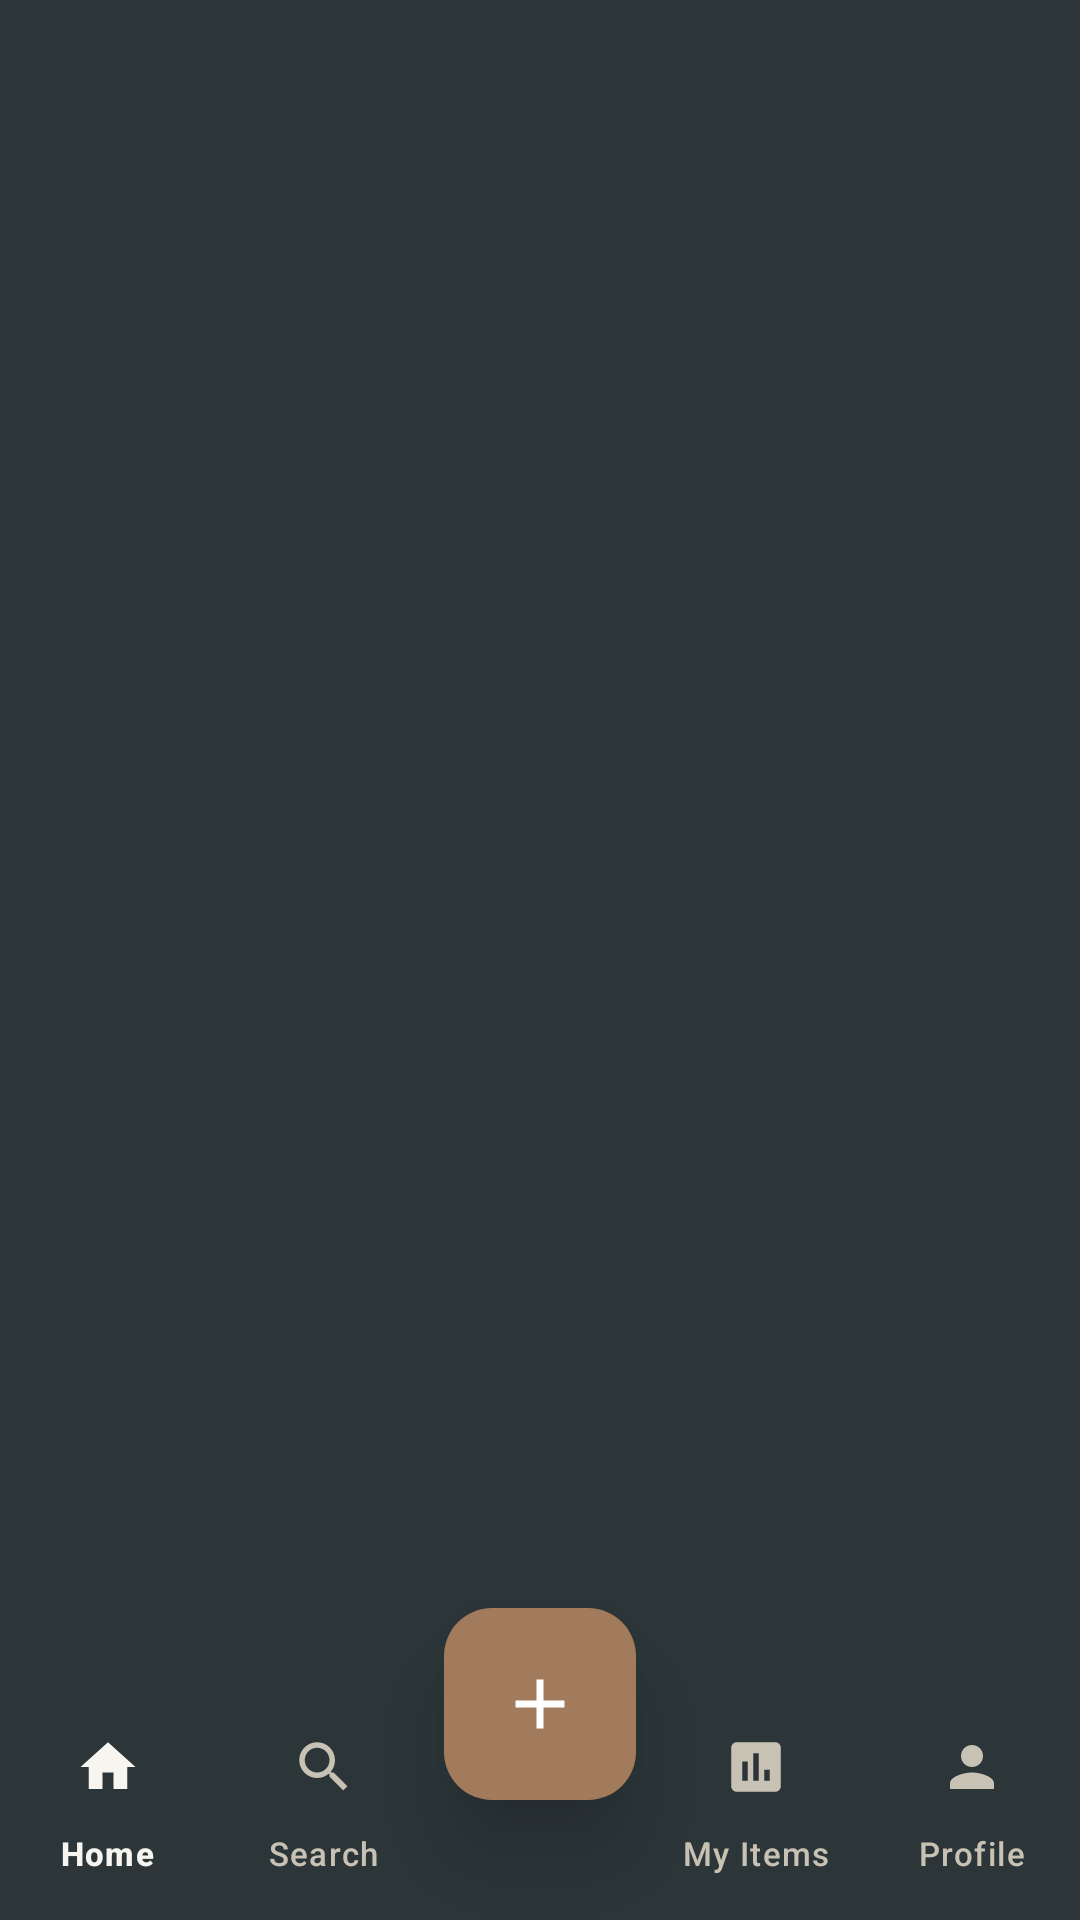

Screen size 1080w x 1920h. Icon name, then its box in pixels as region(x1, y1, x2, y2):
Create report: region(444, 1608, 636, 1800)
